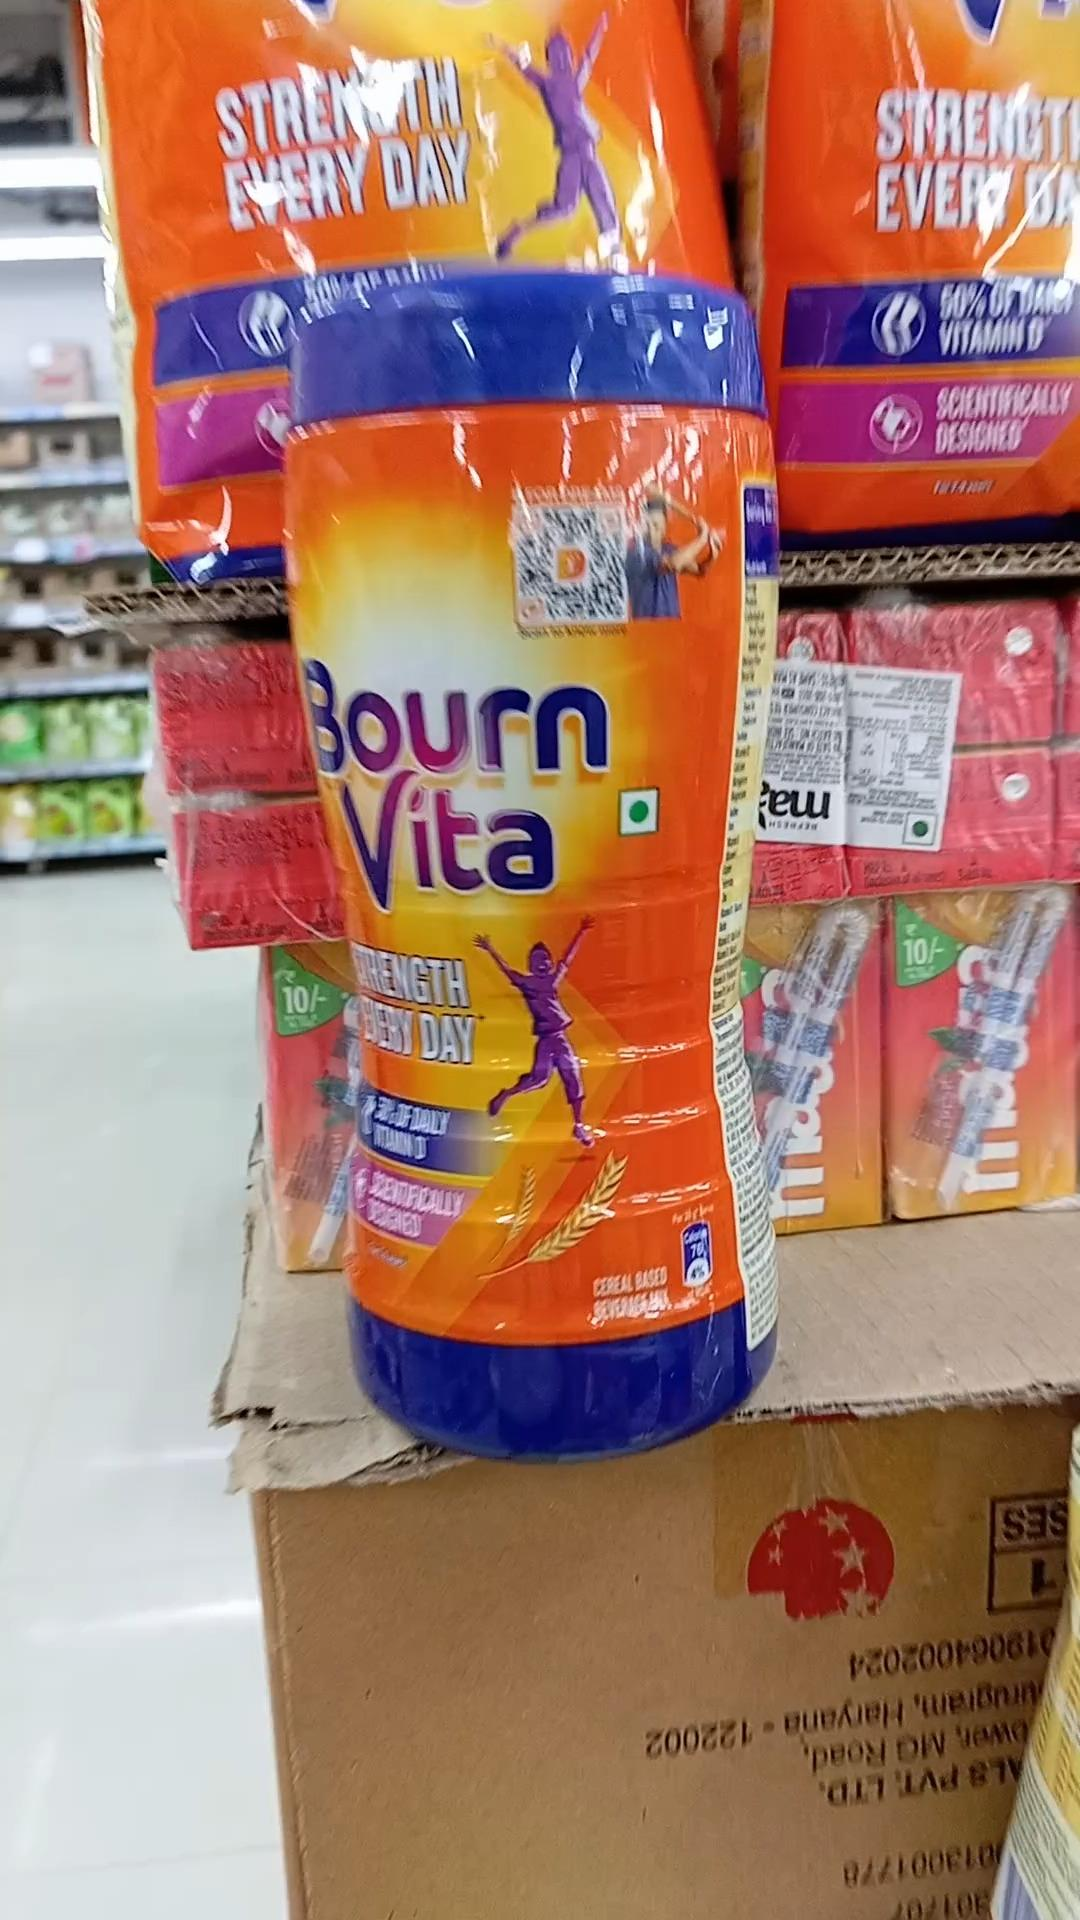BOURN_VITA_500_G_JAR: (297, 268, 783, 1449)
